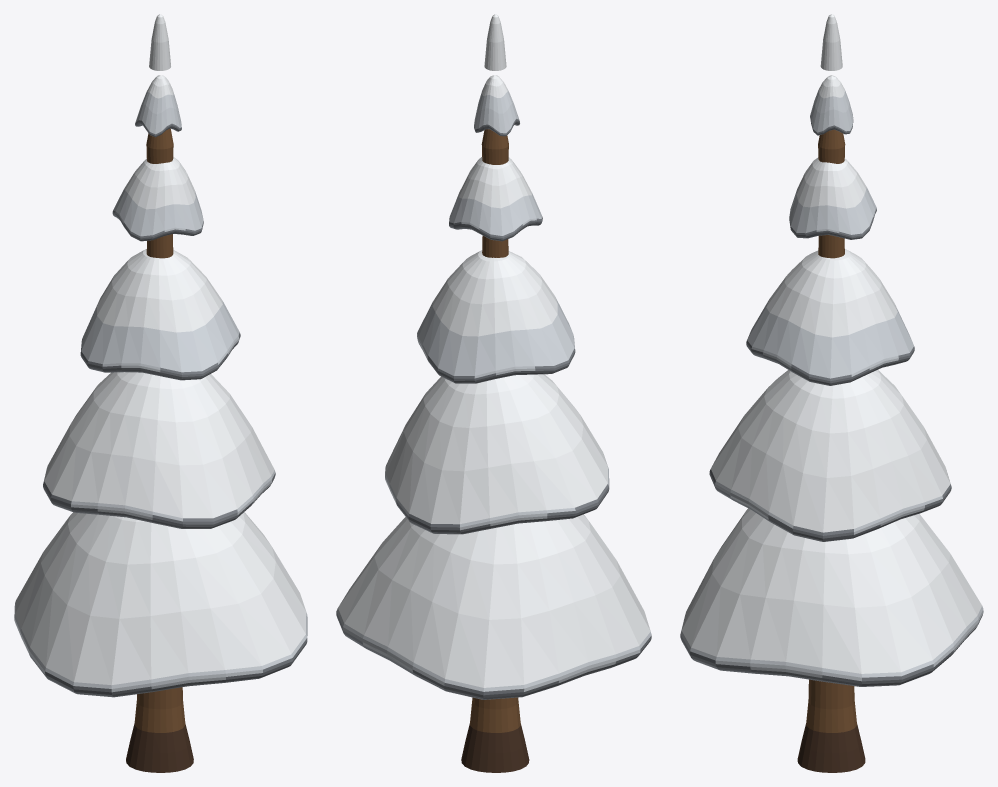
File: SpirePineFar.obj
3 views of the same model, side by side, from view 1: azimuth 30°, elevation 25°; view 2: azimuth 150°, elevation 25°; view 3: azimuth 270°, elevation 25° (orthographic).
Size of the model in its own units: 6.02 by 16.35 by 6.03.
